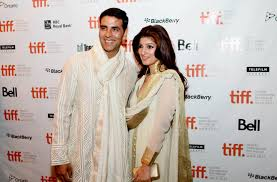Bad: (51, 7, 185, 182)
